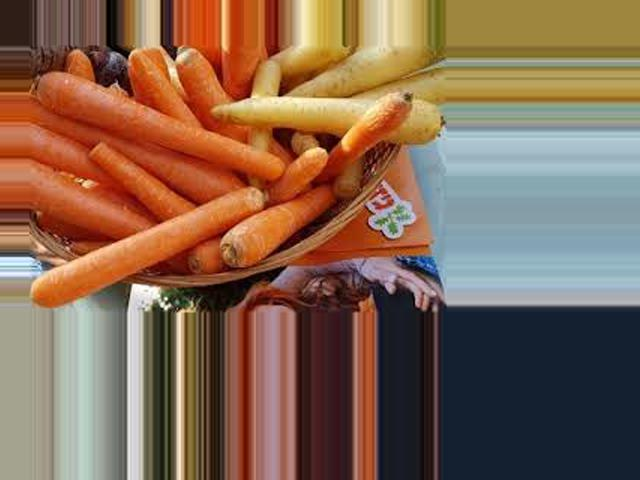carrot: (226, 186, 354, 274)
